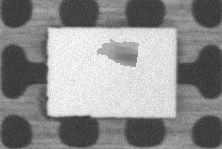DIE_INK: (140, 25, 210, 47)
